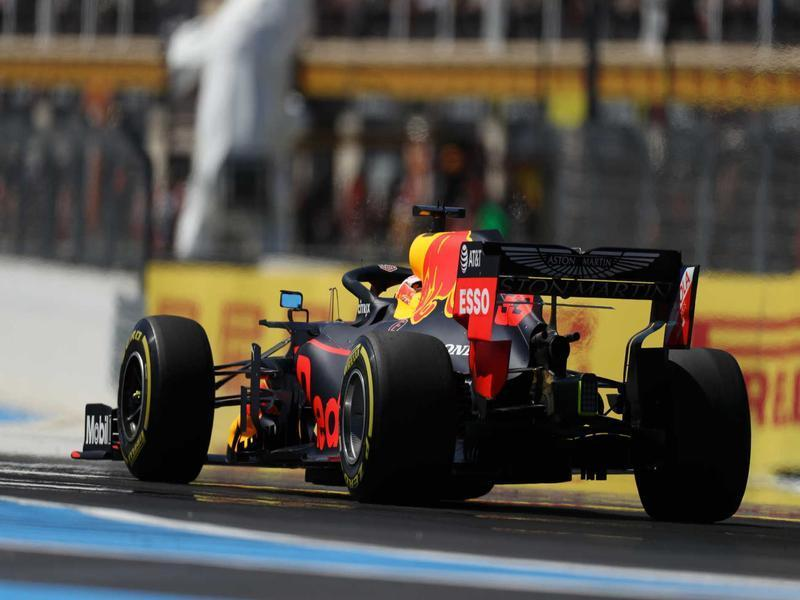f1: (98, 203, 760, 525)
